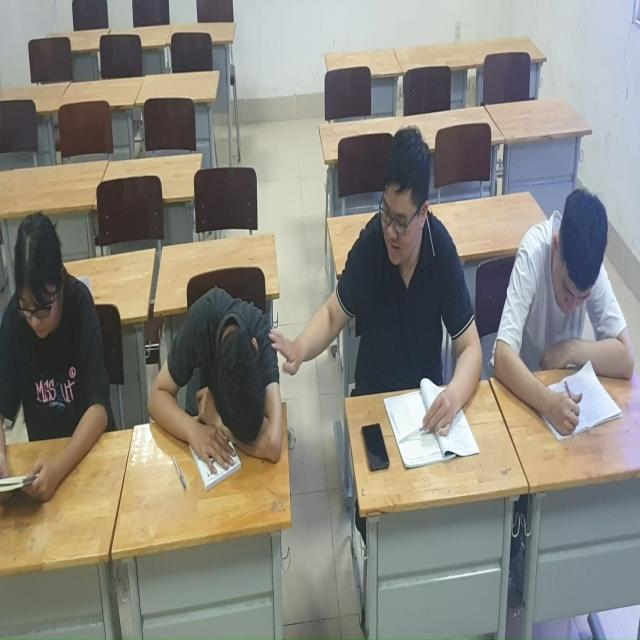read: (342, 122, 477, 444), (495, 185, 636, 461), (1, 204, 128, 502)
sleep: (137, 286, 287, 496)
